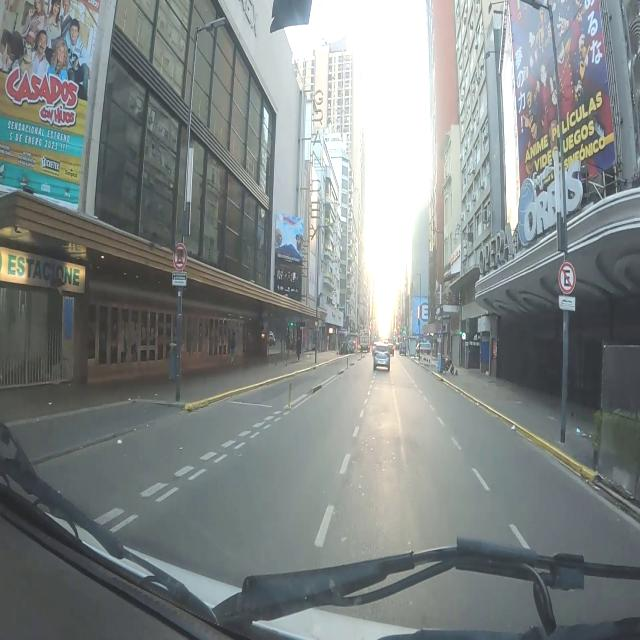car: (374, 343, 390, 370)
